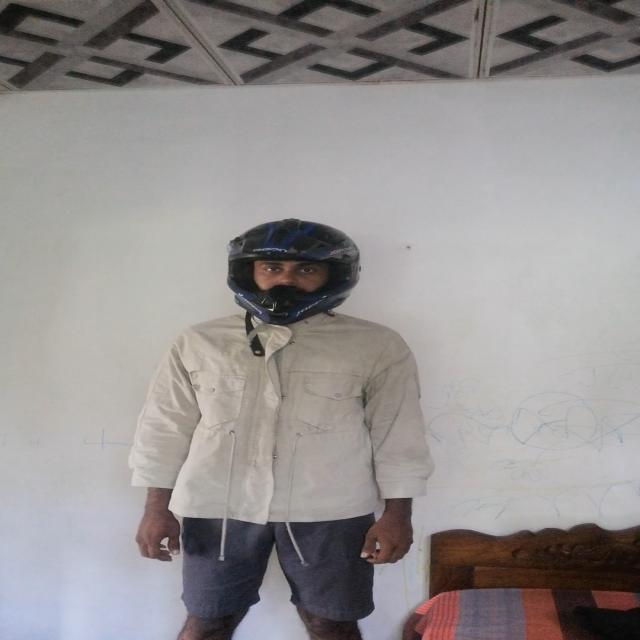Helmet_Wearer: (206, 216, 378, 333)
Jacket_Wearer: (142, 305, 448, 525)
Person: (136, 208, 444, 640)
